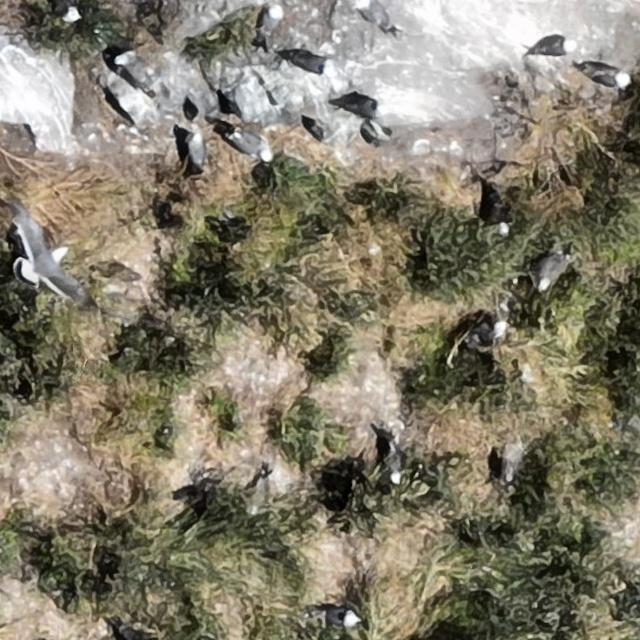F: (24, 232, 84, 298)
umineko: (116, 50, 159, 92), (356, 1, 395, 34), (537, 256, 566, 287), (585, 66, 627, 86), (234, 134, 269, 157), (342, 97, 385, 115), (471, 321, 503, 343), (321, 608, 358, 627), (289, 55, 328, 73), (189, 132, 206, 164), (262, 7, 282, 34), (536, 40, 568, 56), (389, 453, 403, 485), (60, 5, 79, 23)
